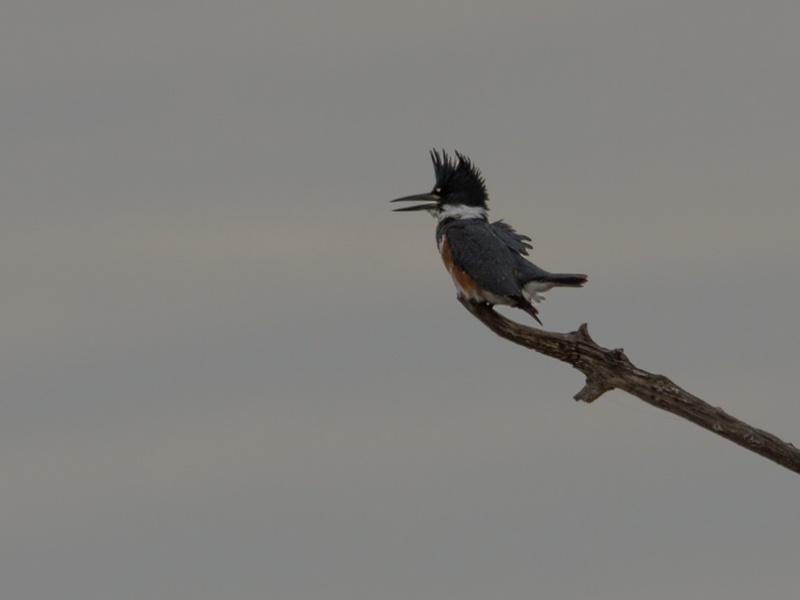kingfisher: (391, 147, 591, 328)
